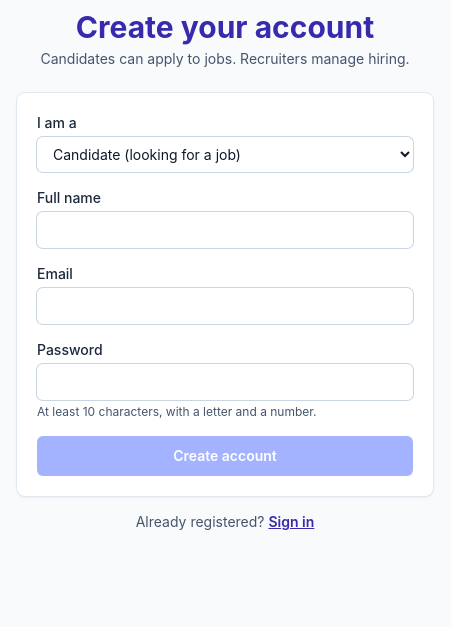
Scenario: Register › shows validation problems from the server
The image size is (451, 627).
In the field labelled "Full name": (225, 230) top-left (37, 212), bottom-right (413, 248), type "Ada"
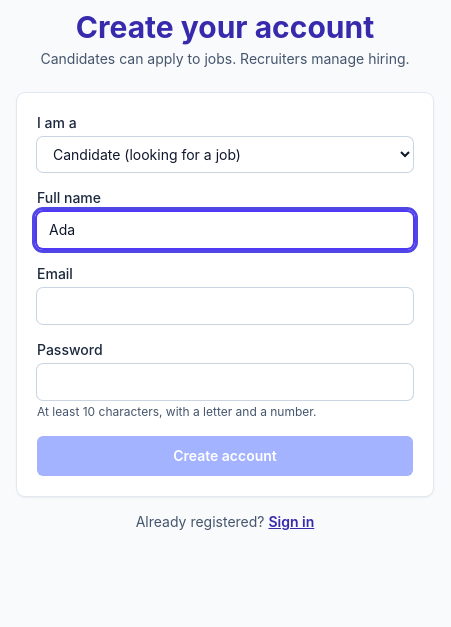
In the field labelled "Email": (225, 306) top-left (37, 288), bottom-right (413, 324), type "ada@example.com"
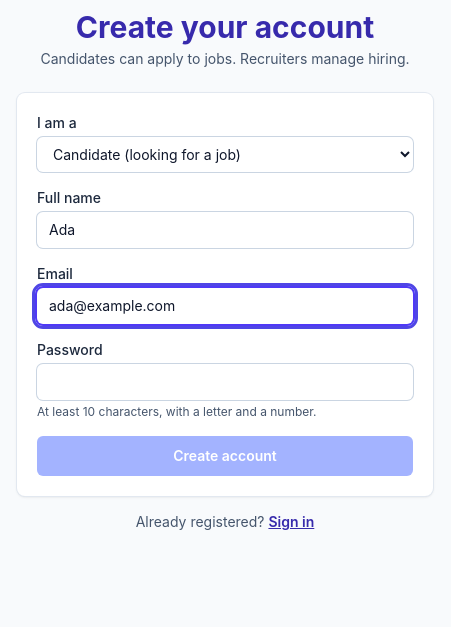
In the password field labelled "Password": (225, 382) top-left (37, 364), bottom-right (413, 400), type "1234567890"
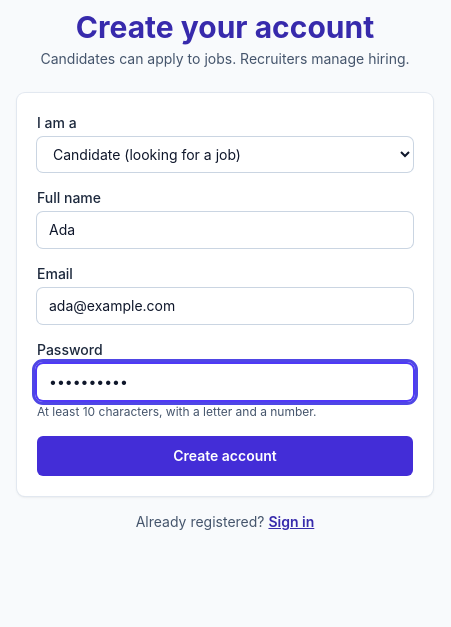
Click the button "Create account": (225, 456) top-left (37, 436), bottom-right (413, 476)
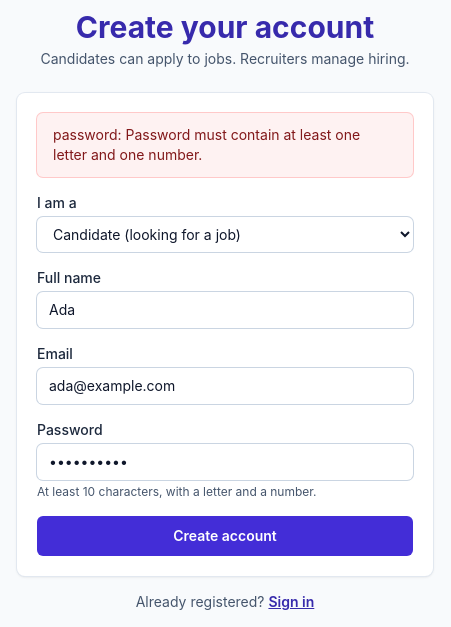
Now the message reads "password: Password must contain at least one letter and one number.", box top-left (53, 126), bottom-right (360, 163)
